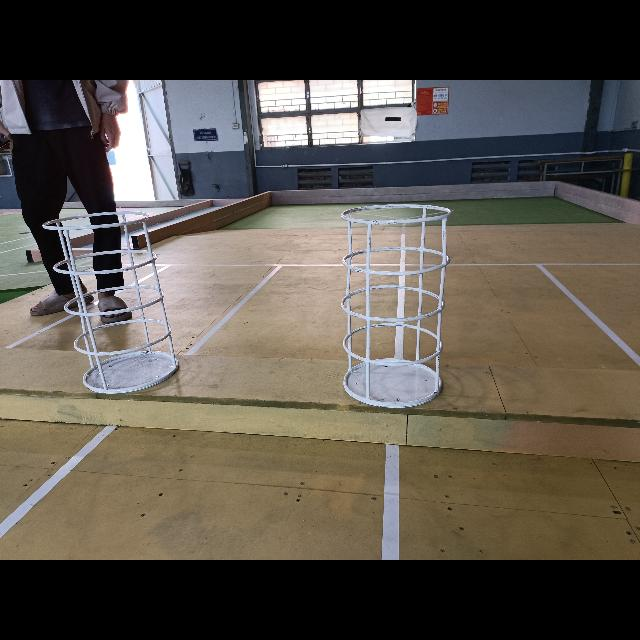S: (42, 209, 180, 395), (341, 205, 450, 411)
